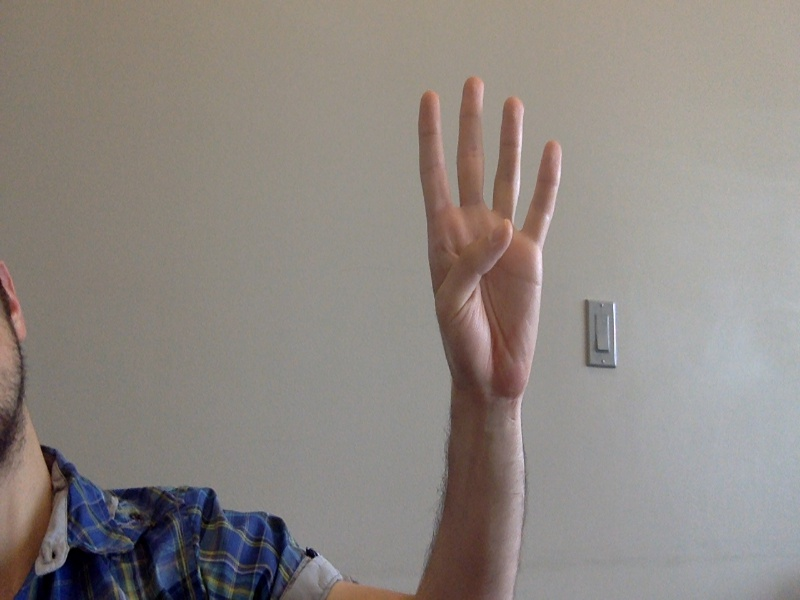4-hand: (416, 75, 561, 399)
